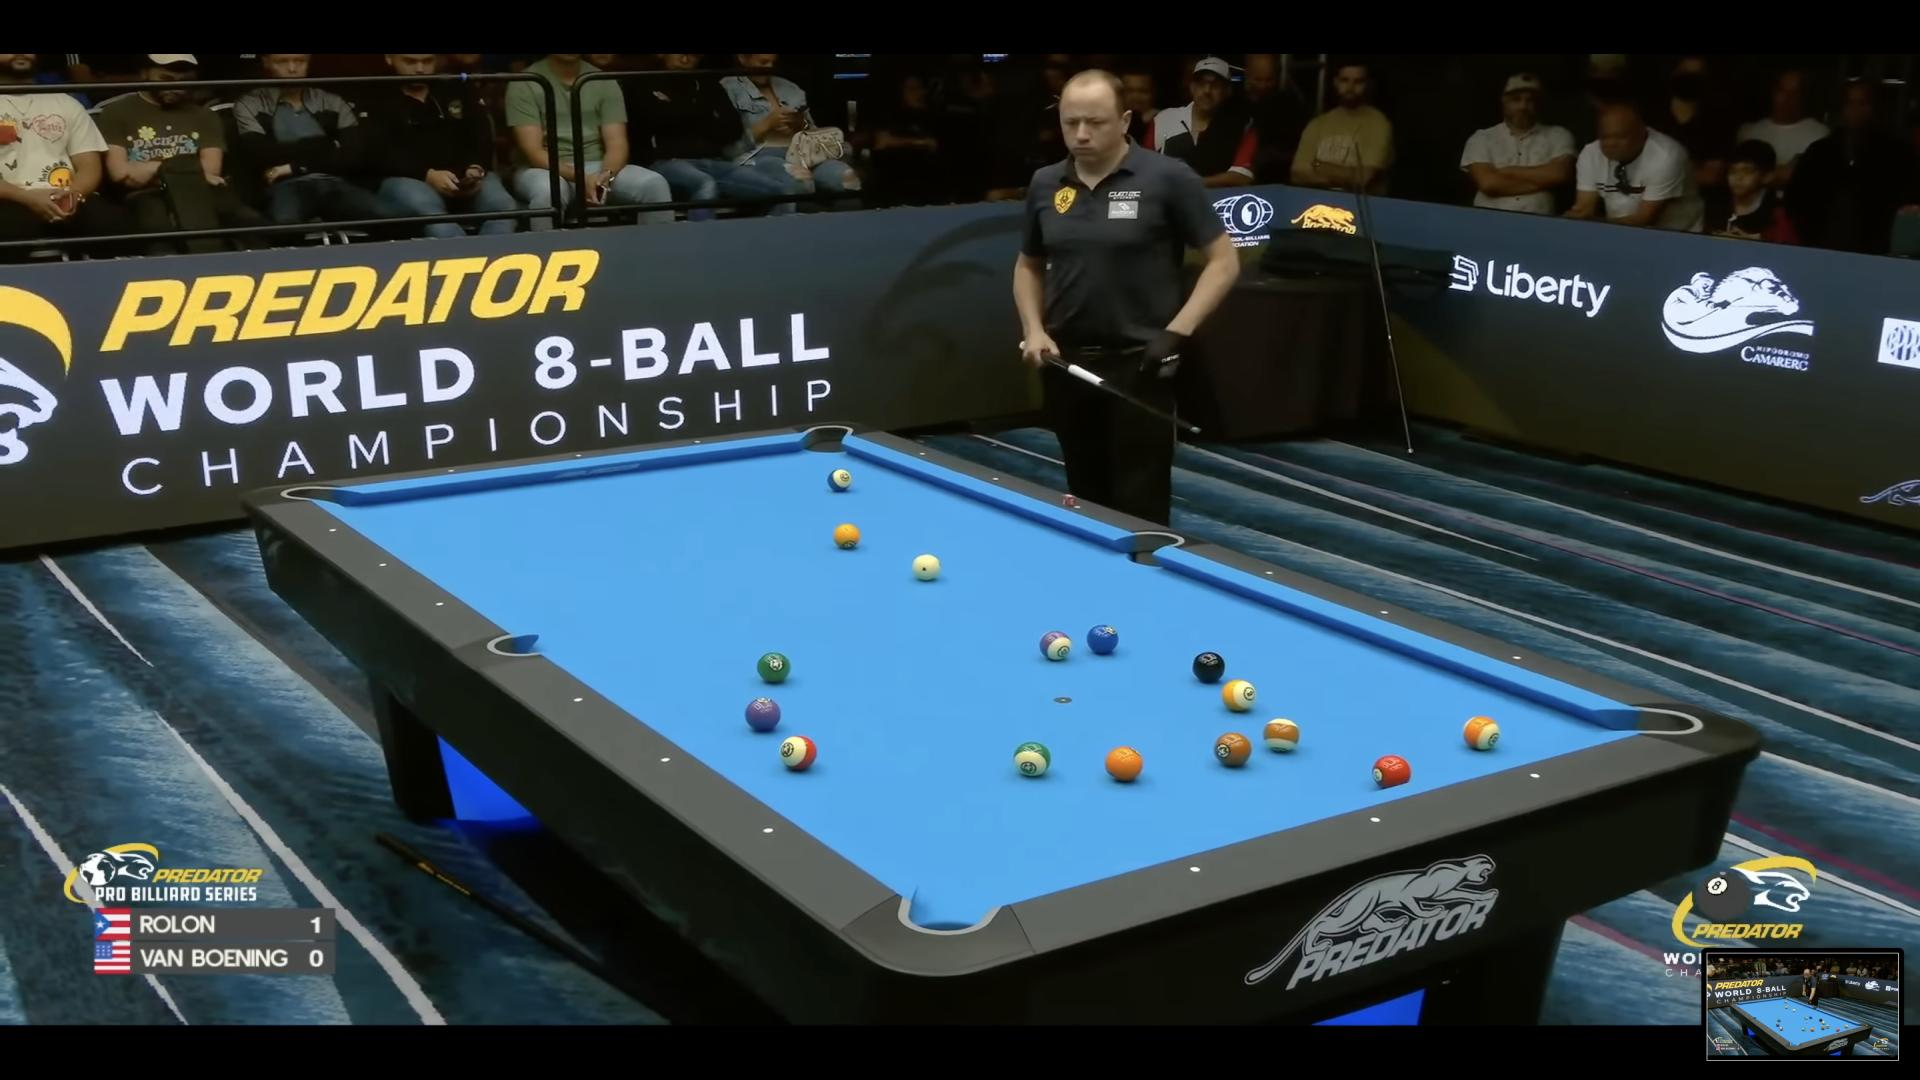Black: (1192, 651, 1225, 683)
Cue: (913, 554, 942, 580)
Dot: (761, 825, 773, 836), (1378, 607, 1390, 617), (1369, 816, 1379, 827), (659, 754, 670, 765), (1528, 770, 1539, 781), (1188, 865, 1200, 874), (574, 696, 584, 705), (1265, 568, 1275, 578), (434, 600, 443, 608), (1513, 654, 1520, 662), (919, 451, 926, 458), (993, 476, 1000, 483), (378, 563, 385, 568), (575, 452, 582, 458), (694, 439, 699, 444), (330, 527, 335, 531), (448, 469, 454, 473), (1075, 505, 1080, 509)
Solid: (1215, 732, 1253, 767), (1104, 746, 1142, 782), (1371, 756, 1411, 789), (745, 698, 781, 732), (757, 653, 791, 683), (1087, 625, 1120, 654), (833, 524, 860, 549)
Striped: (779, 735, 818, 771), (1462, 716, 1501, 752), (1263, 717, 1302, 753), (1013, 742, 1051, 777), (1221, 680, 1257, 712), (1039, 632, 1073, 661), (828, 469, 852, 492)
